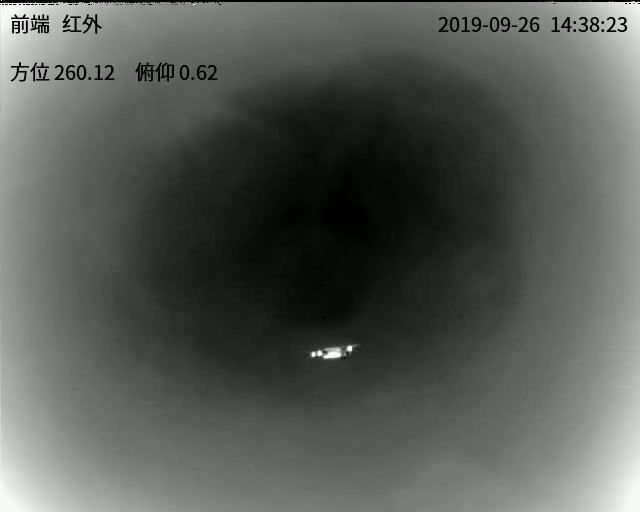DRONE: (308, 343, 357, 361)
